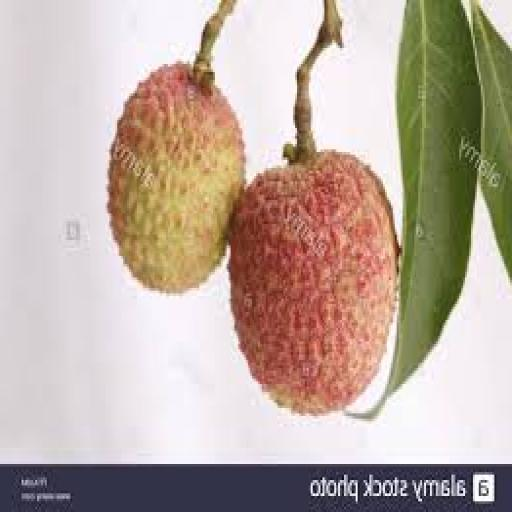lychee: (228, 152, 397, 415), (107, 64, 243, 293)
